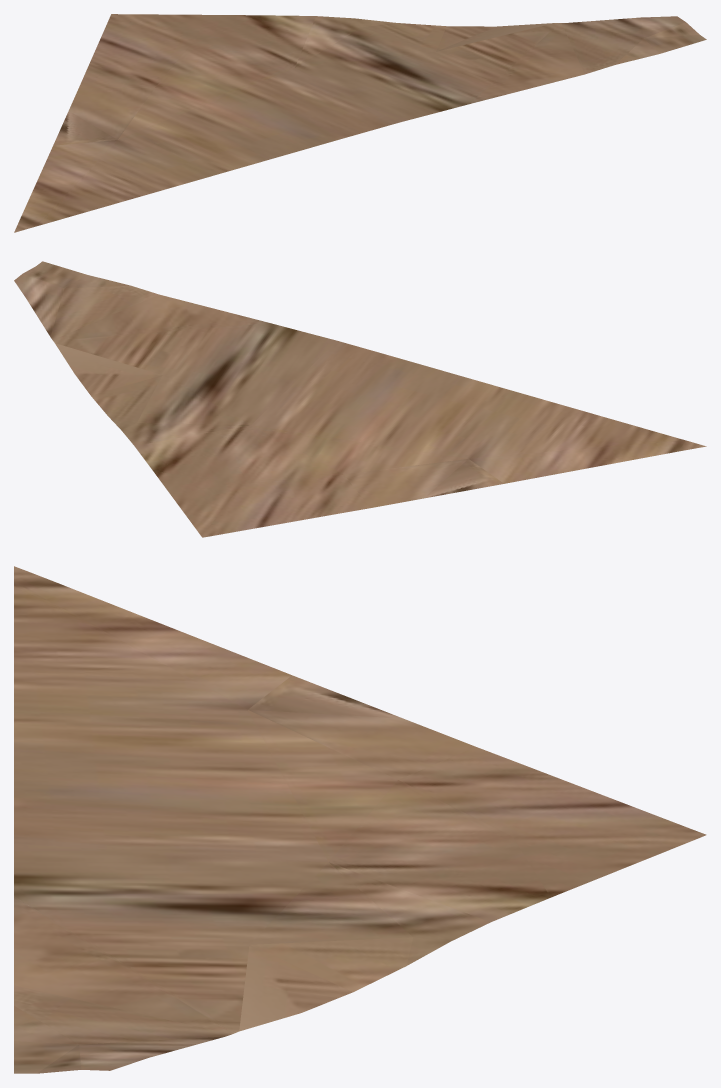
3 renders of one model, top to bottom at view 1: azimuth 30°, elevation 25°; view 2: azimuth 150°, elevation 25°; view 3: azimuth 270°, elevation 25°, orthographic. The views are drawn at different scales.
Bounding box in the file's own units: 3.32 × 0.1857 × 1.78.
1 material, 1 textured.
